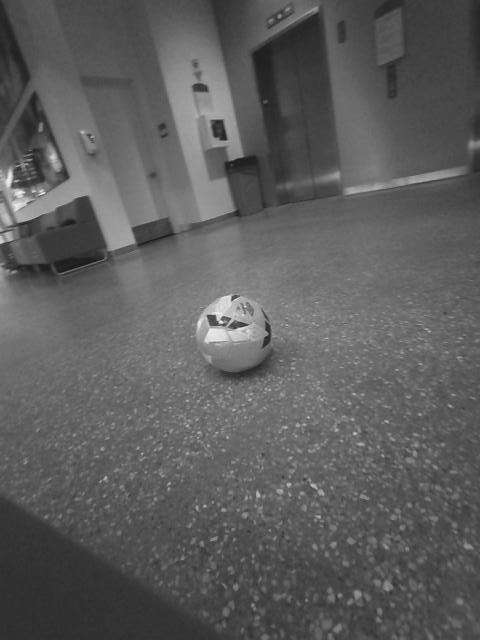ball: (187, 285, 282, 376)
